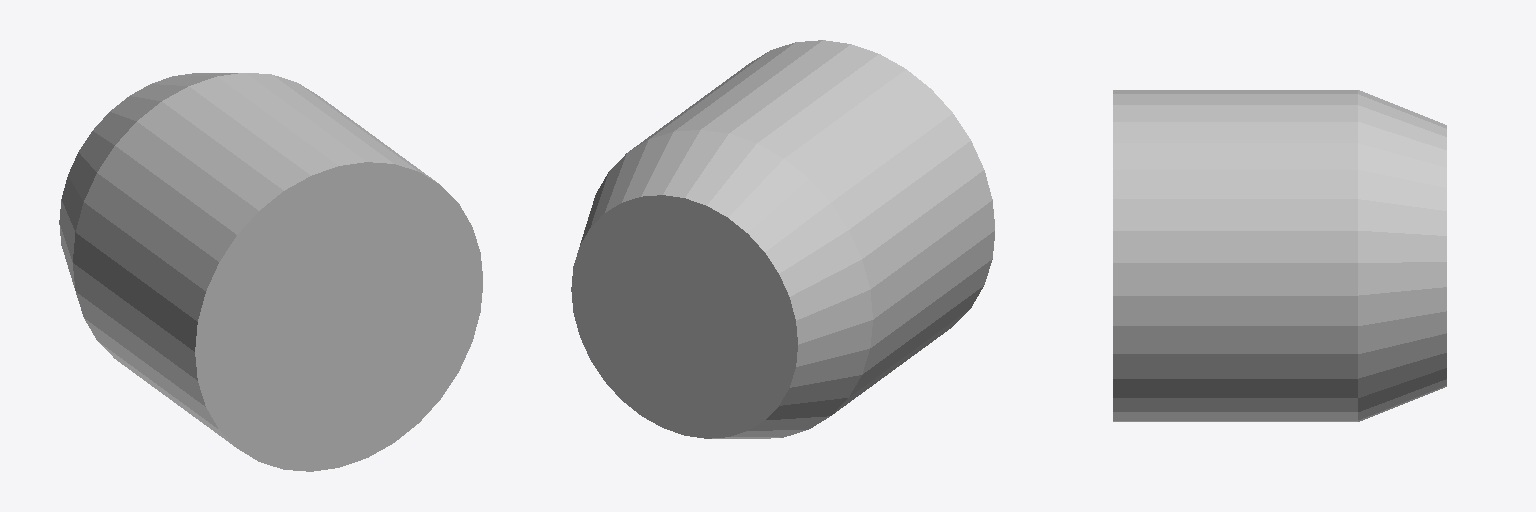
Rendered from beam_tuto.obj.
3 views of the same model, side by side, from view 1: azimuth 30°, elevation 25°; view 2: azimuth 150°, elevation 25°; view 3: azimuth 270°, elevation 25° (orthographic).
Parts seen in each view (by area): view 1: Cylinder; view 2: Cylinder; view 3: Cylinder.
Part boxes in pixels (bbox=[...]): Cylinder: bbox=[59, 73, 482, 471]; Cylinder: bbox=[571, 40, 994, 438]; Cylinder: bbox=[1113, 90, 1446, 421].
Size of the model in its own units: 2 by 2 by 2.